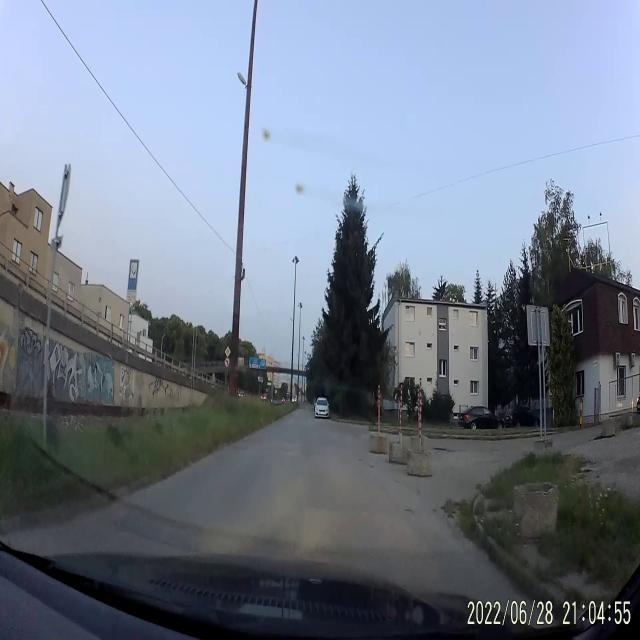Pothole: (404, 506, 416, 516), (432, 506, 438, 514), (370, 464, 374, 468)
